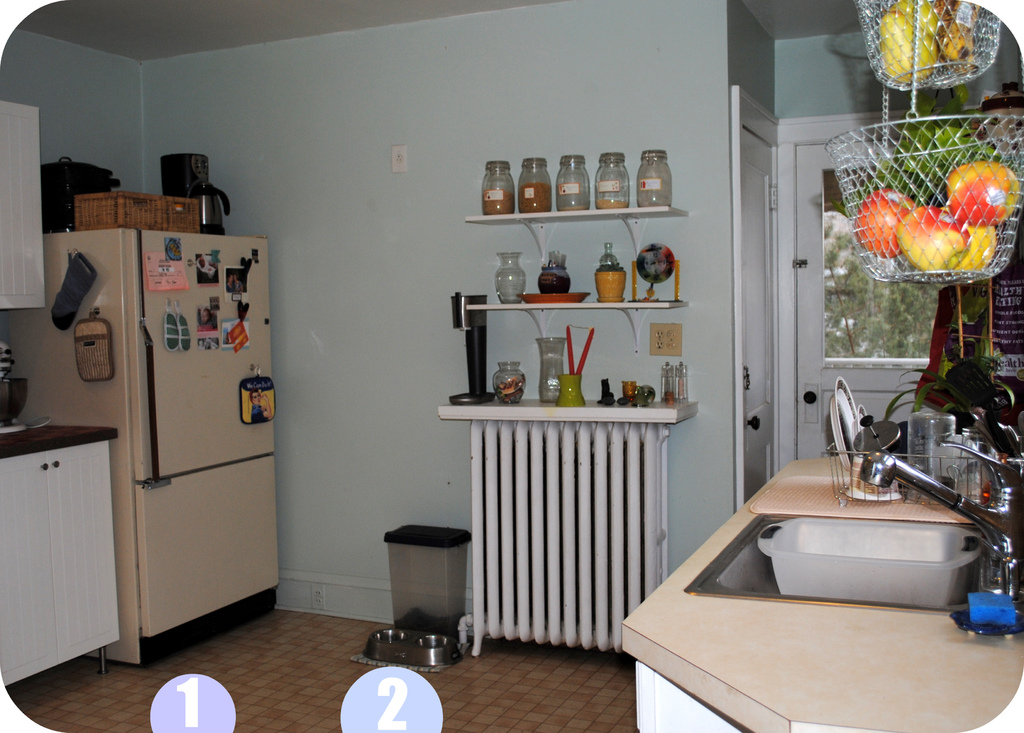cabinet door: (54, 451, 123, 647), (0, 457, 60, 661), (0, 101, 57, 303)
door: (794, 155, 934, 436), (735, 121, 782, 470)
handle: (135, 329, 168, 478), (801, 385, 822, 415), (750, 410, 766, 440)
refrigerator door: (126, 228, 276, 460), (143, 470, 280, 600)
